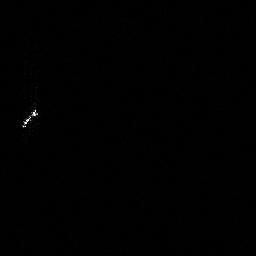ship: (22, 108, 39, 131)
